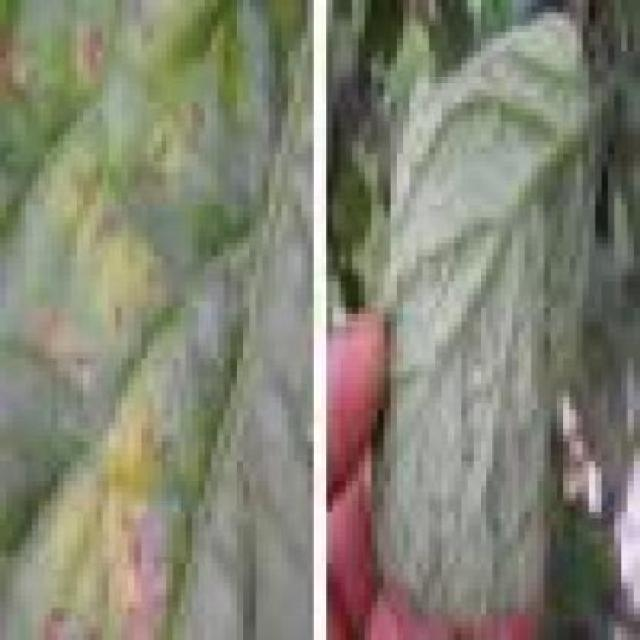Septoria leaf spot: (0, 19, 302, 608), (352, 19, 608, 627)
